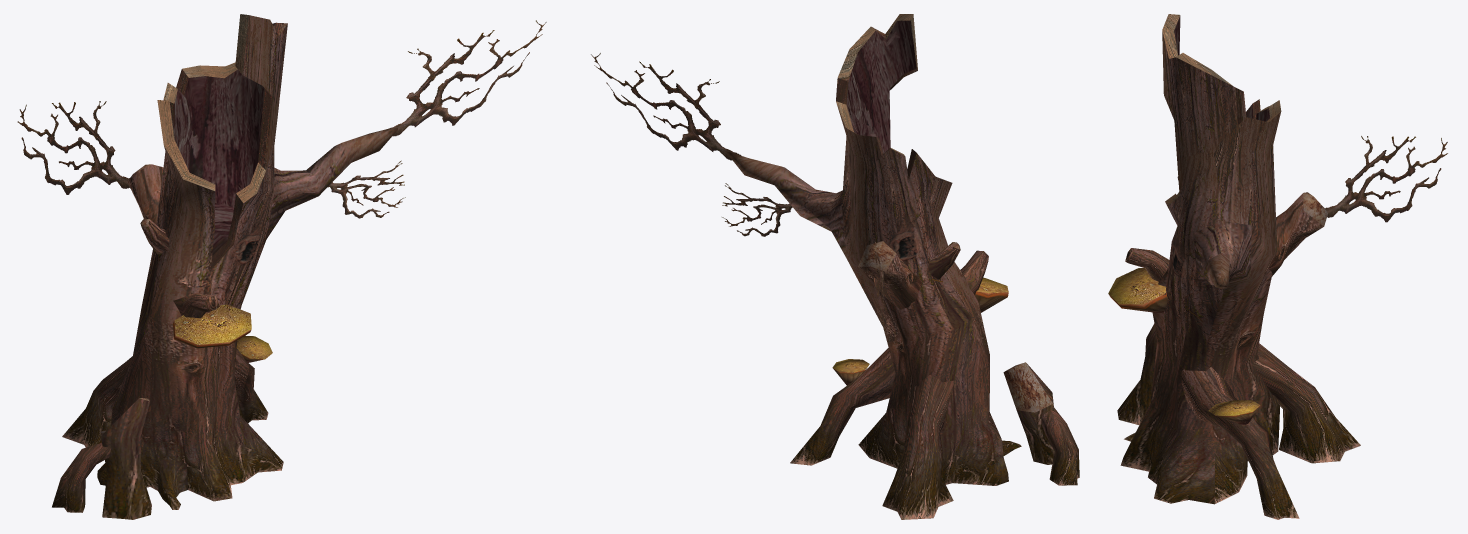
File: yw_leinabao_kushu01.FBX
3 views of the same model, side by side, from view 1: azimuth 30°, elevation 25°; view 2: azimuth 150°, elevation 25°; view 3: azimuth 270°, elevation 25° (orthographic). The views are drawn at different scales.
Visible parts, largest first — view 1: yw_leinabao_kushu01; view 2: yw_leinabao_kushu01; view 3: yw_leinabao_kushu01.
Part boxes in pixels (<box>): yw_leinabao_kushu01: <box>17,14,546,519</box>; yw_leinabao_kushu01: <box>591,14,1079,519</box>; yw_leinabao_kushu01: <box>1108,14,1447,519</box>.
Bounding box in the file's own units: 1284 × 1090 × 719.
